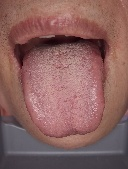tongue: (20, 52, 106, 139)
